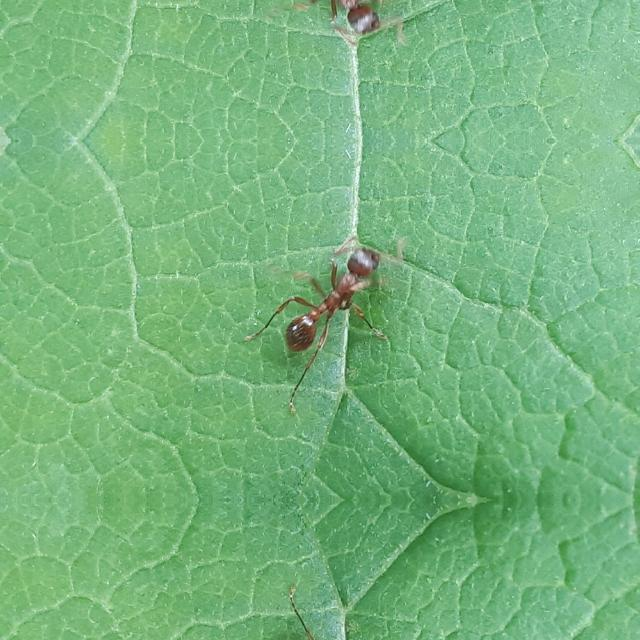Myrmica: (253, 227, 415, 363), (253, 0, 415, 52)
